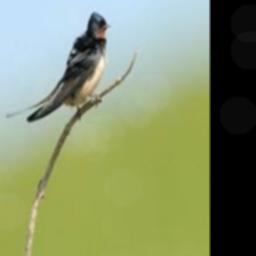Swallow: (6, 12, 110, 124)
